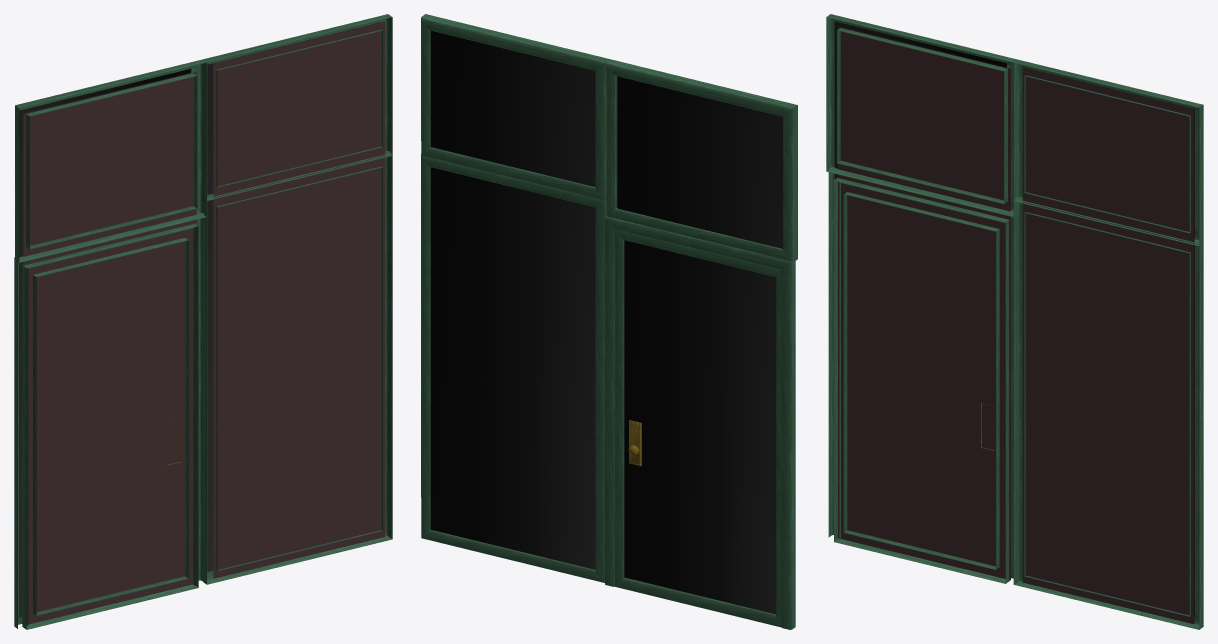
File: Shop_3_9_10.fbx
The picture shows the model from 3 angles, left to right: view 1: azimuth 30°, elevation 25°; view 2: azimuth 150°, elevation 25°; view 3: azimuth 330°, elevation 25°; orthographic projection.
Parts seen in each view (by area): view 1: Shop_3_9_10, Glass2, Glass2__1_; view 2: Glass2, Glass2__1_, Shop_3_9_10; view 3: Shop_3_9_10, Glass2__1_, Glass2.
Part boxes in pixels (x1,y1,x2,y2): Shop_3_9_10: [14, 14, 392, 629]; Glass2: [207, 22, 379, 571]; Glass2__1_: [19, 69, 191, 617]; Glass2: [430, 30, 595, 569]; Glass2__1_: [617, 76, 782, 614]; Shop_3_9_10: [421, 14, 797, 629]; Shop_3_9_10: [826, 14, 1203, 629]; Glass2__1_: [834, 21, 1006, 179]; Glass2: [1023, 67, 1194, 615].
Size of the model in its own units: 252 by 337 by 8.61.
